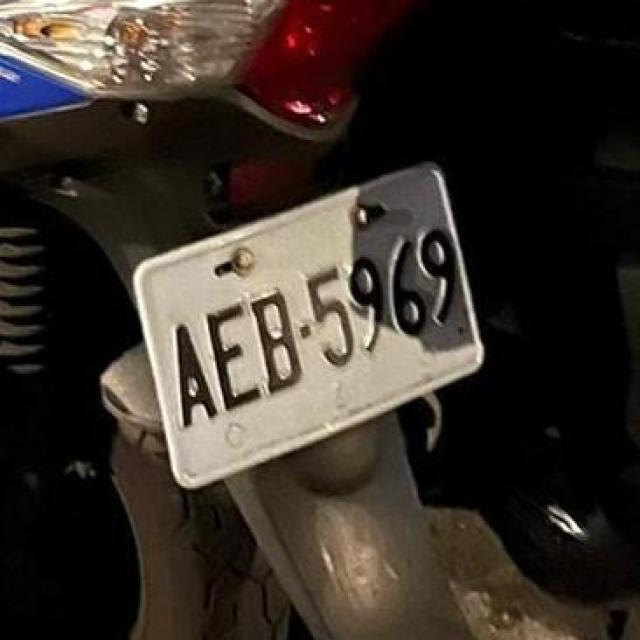W: (108, 138, 510, 497)
